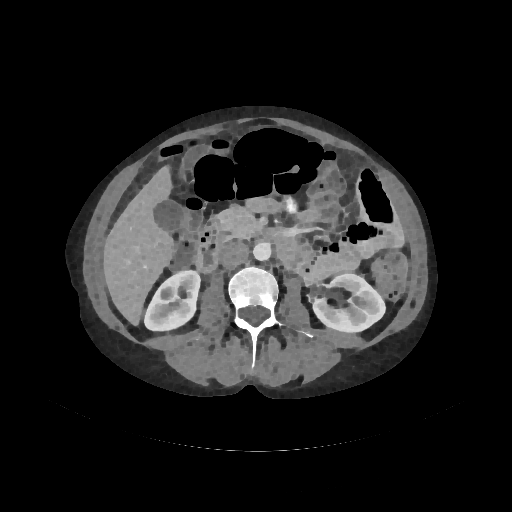Lesion: (156, 284, 176, 305)
